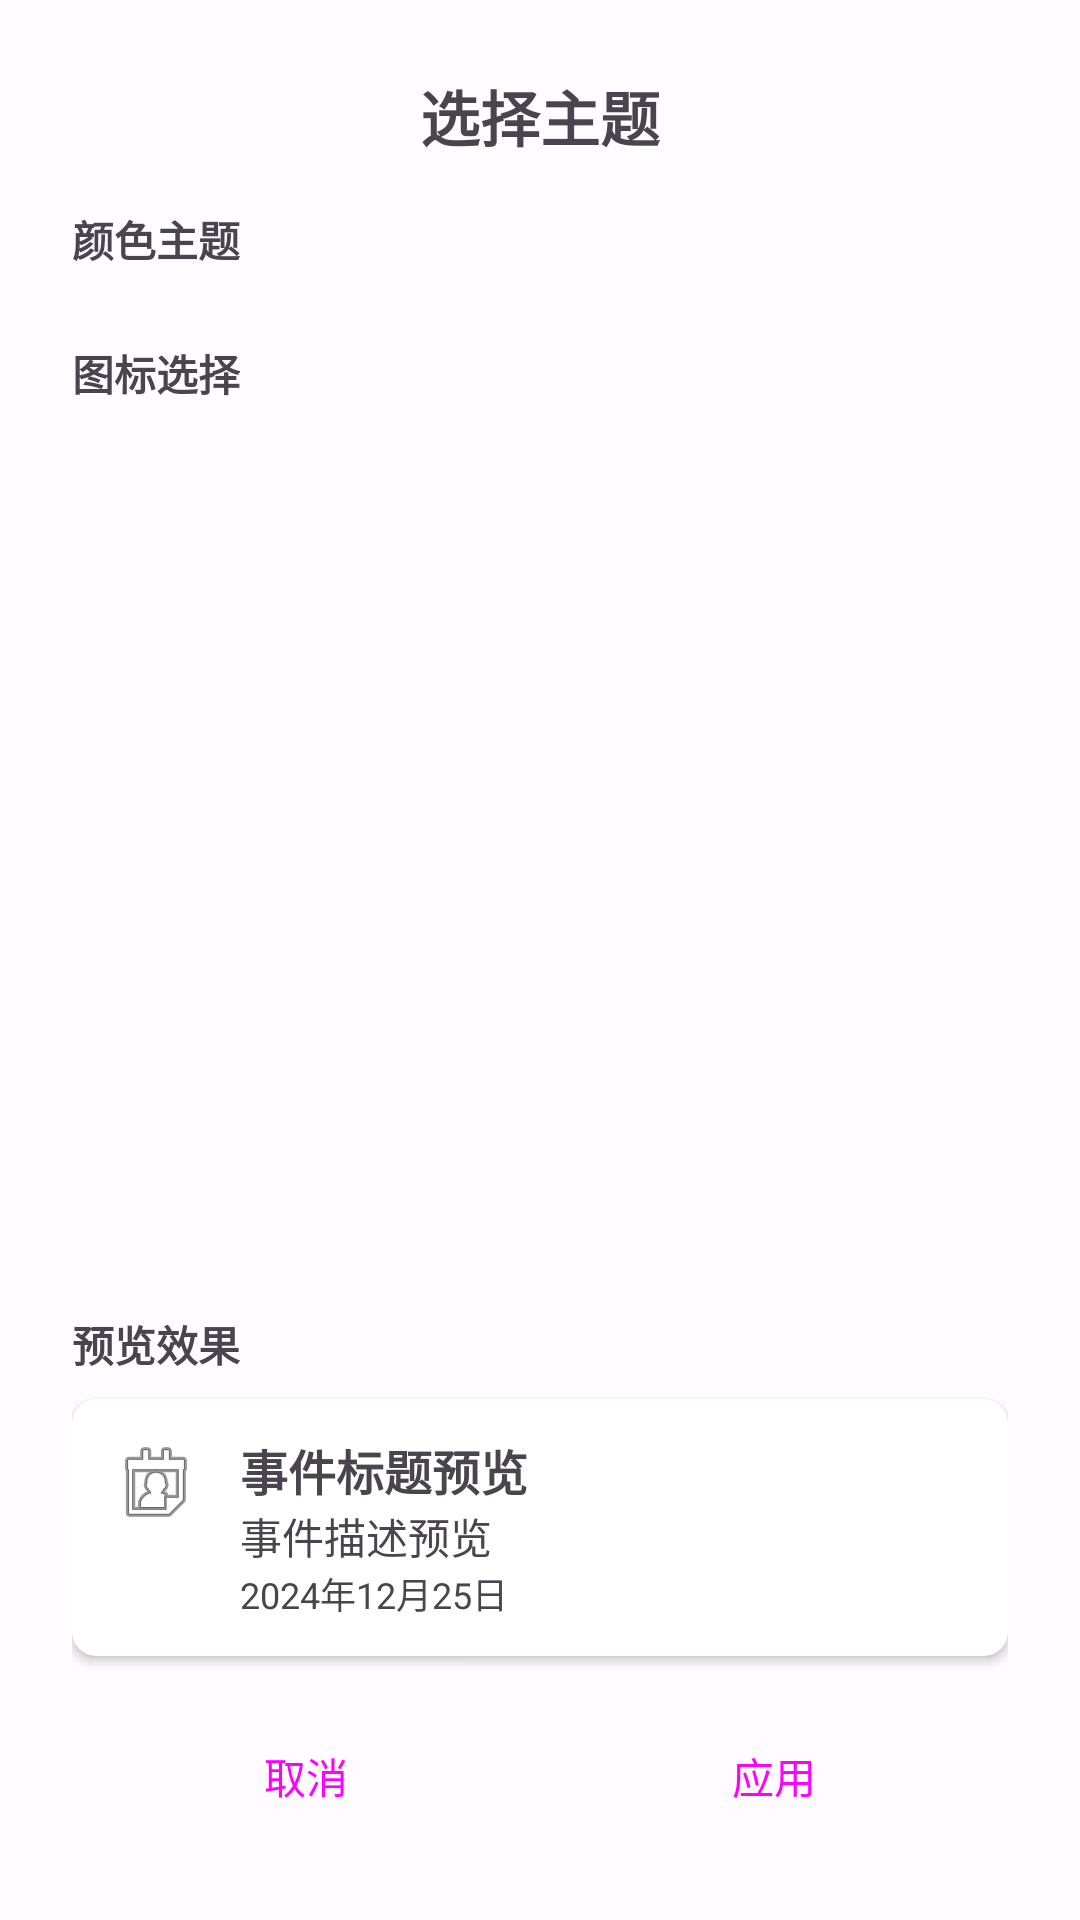

Icon click points for this 1080px x 1920px phone screenshot, format (x=x, y=y):
calendar: (x=156, y=1482)
